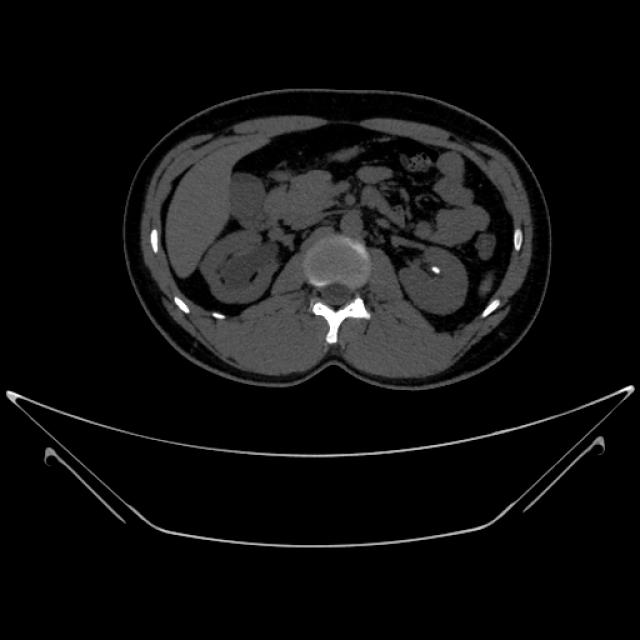kidney: (196, 225, 287, 308), (397, 242, 472, 320)
stone: (430, 261, 441, 277)
